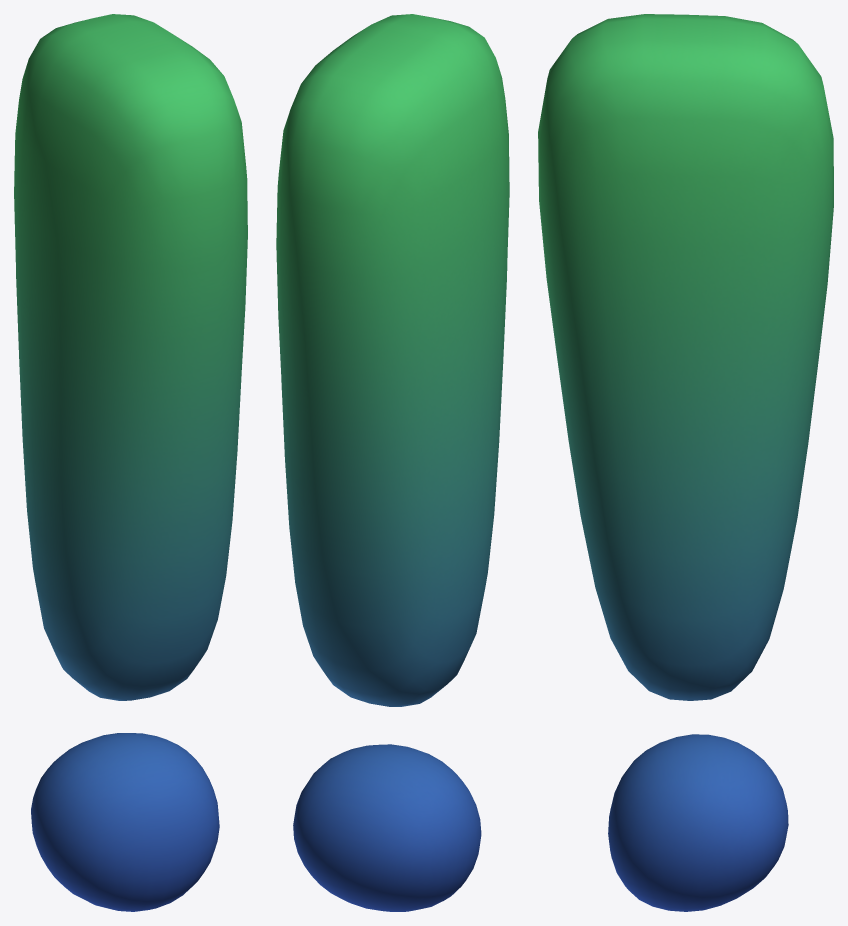
File: ExclamationMarkTripleTwo.dae
3 renders of one model, left to right at view 1: azimuth 30°, elevation 25°; view 2: azimuth 150°, elevation 25°; view 3: azimuth 270°, elevation 25°, orthographic.
Visible parts, largest first — view 1: Cube_001; view 2: Cube_001; view 3: Cube_001.
Part boxes in pixels (x1,y1,x2,y2): Cube_001: [14, 14, 247, 911]; Cube_001: [276, 14, 509, 911]; Cube_001: [538, 14, 833, 911].
Bounding box in the file's own units: 0.5834 × 0.8393 × 2.73.
1 material, 1 textured.
